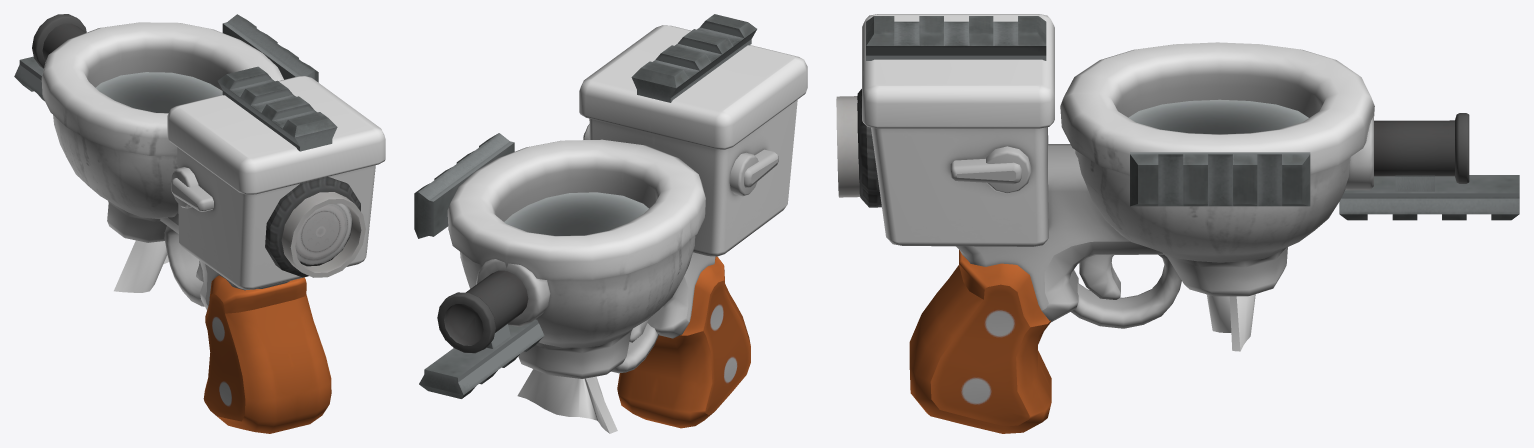
File: IG_Gun_Toilet.fbx
The picture shows the model from 3 angles, left to right: view 1: azimuth 30°, elevation 25°; view 2: azimuth 150°, elevation 25°; view 3: azimuth 270°, elevation 25°; orthographic projection. The views are drawn at different scales.
Parts seen in each view (by area): view 1: WPN_Toilet_3, Pfb_Truck_02_Tyre_1, ShowIf_Scope, Pfb_CementMold_01, ShowIf_Tec, ShowIf_Grip; view 2: WPN_Toilet_3, ShowIf_Scope, ShowIf_Grip, ShowIf_Tec; view 3: WPN_Toilet_3, ShowIf_Tec, ShowIf_Scope, ShowIf_Grip, Pfb_CementMold_01, Pfb_Truck_02_Tyre_1, Connect.
Boxes of the visible parts, x1,y1,x2,y2 form: WPN_Toilet_3: (32,14,385,433); Pfb_Truck_02_Tyre_1: (265,177,360,277); ShowIf_Scope: (217,66,337,151); Pfb_CementMold_01: (281,192,365,277); ShowIf_Tec: (222,14,318,82); ShowIf_Grip: (14,56,44,101); WPN_Toilet_3: (437,25,807,433); ShowIf_Scope: (631,14,756,102); ShowIf_Grip: (419,319,544,398); ShowIf_Tec: (414,133,514,238); WPN_Toilet_3: (862,14,1469,433); ShowIf_Tec: (1130,152,1310,206); ShowIf_Scope: (866,16,1046,60); ShowIf_Grip: (1339,175,1519,220); Pfb_CementMold_01: (836,96,860,197); Pfb_Truck_02_Tyre_1: (857,89,881,207); Connect: (1395,175,1434,191).
Size of the model in its own units: 0.273 by 0.407 by 0.6333.
